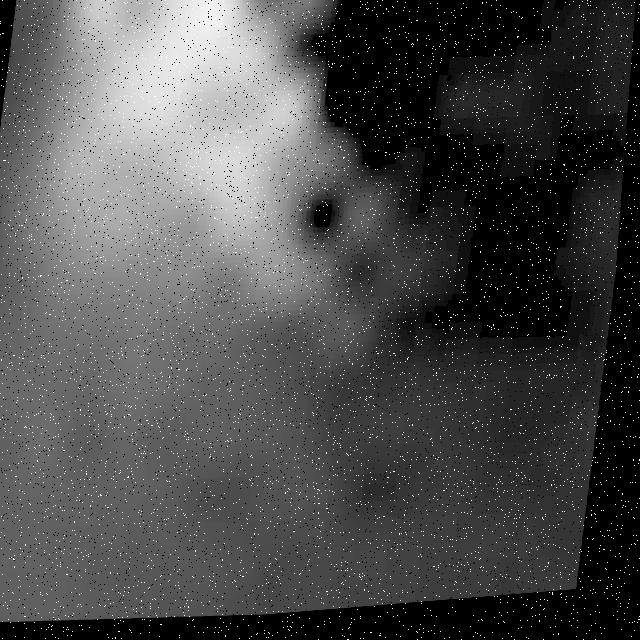person: (1, 1, 292, 367)
